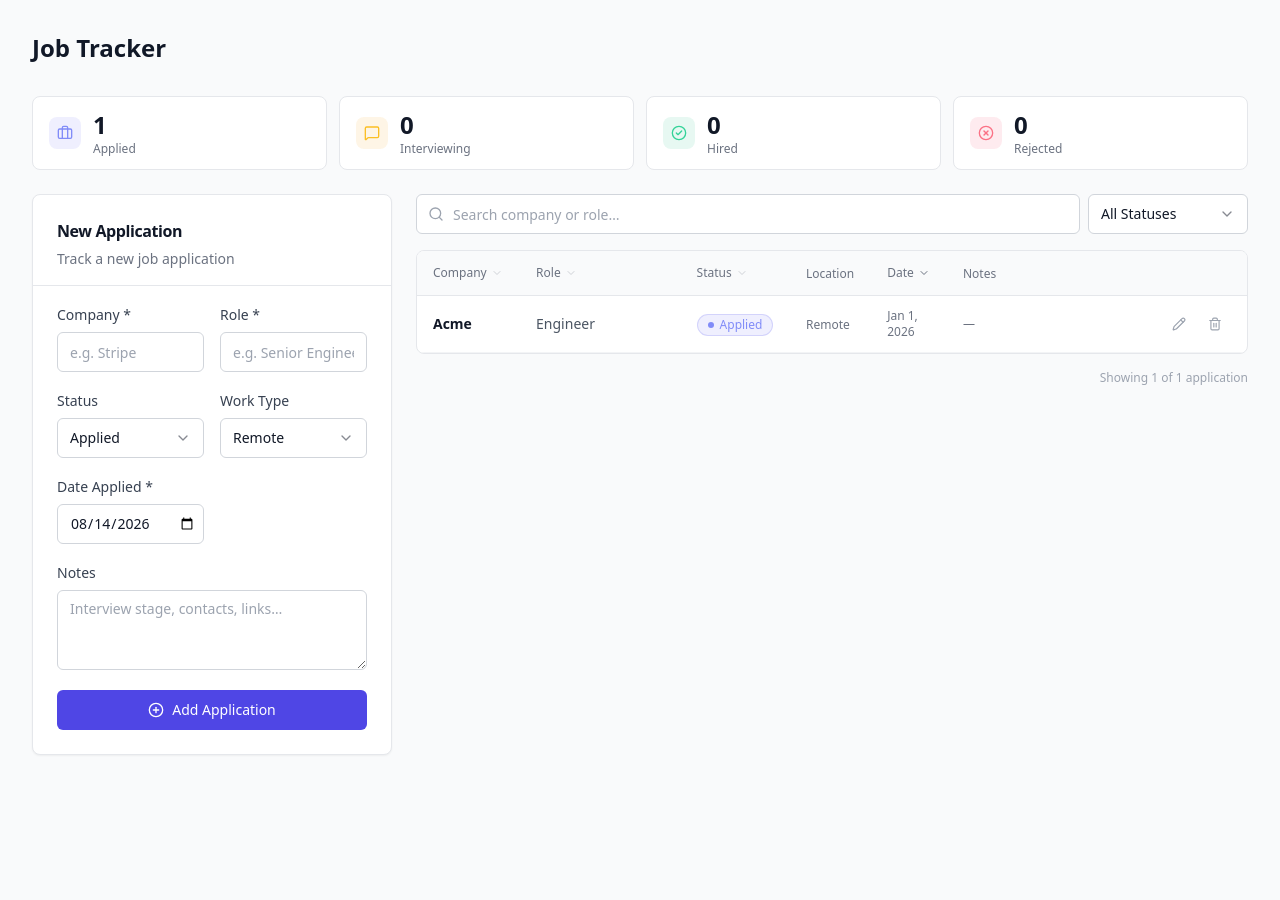
App › cancelling edit mode clears the edit target
The width and height of the screenshot is (1280, 900).
Click the button named "Edit Acme — Engineer": (1179, 324) [1163,308,1195,340]
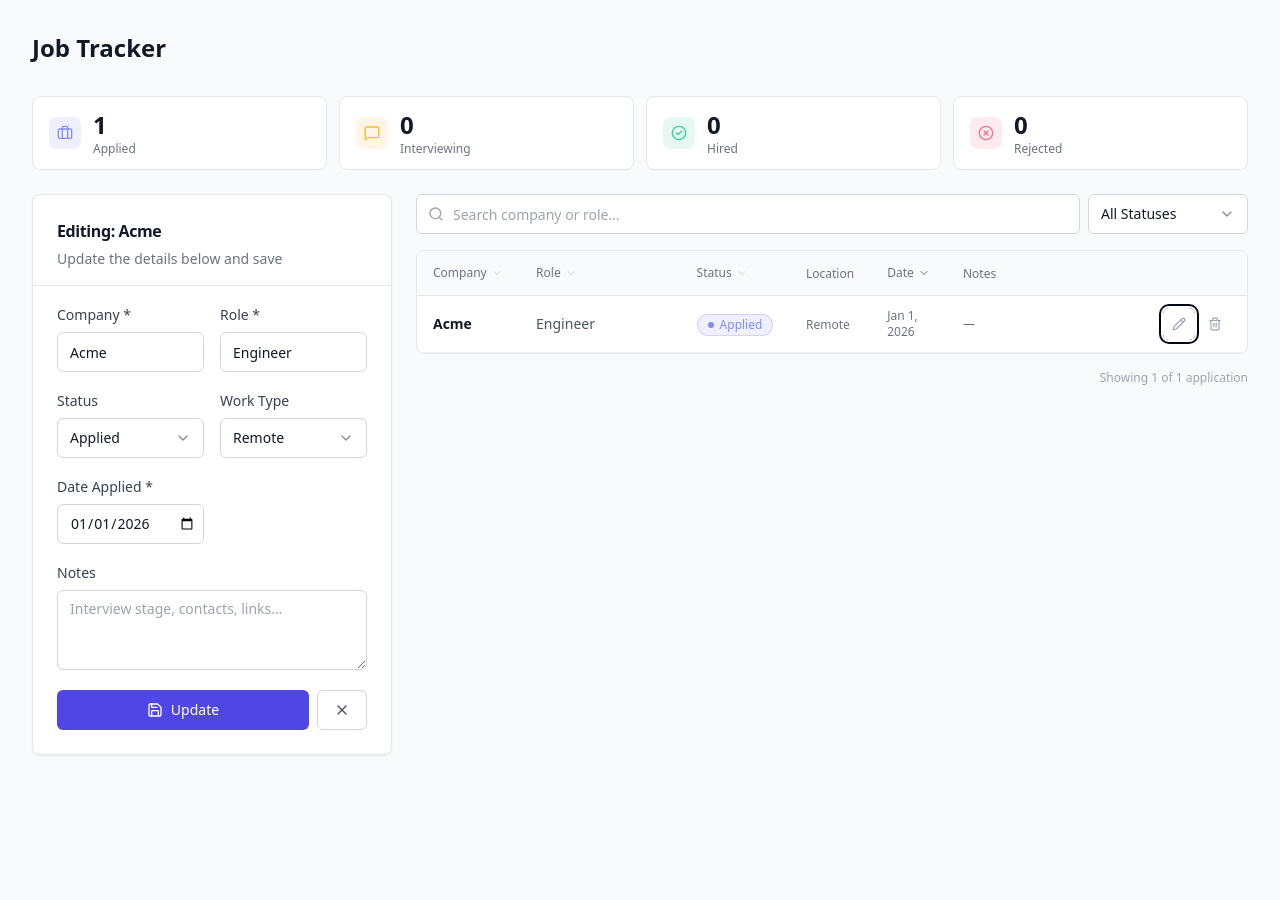
Expected: the heading "Editing: Acme" is shown, [57,220,161,242]
Click the button named "Cancel editing": (342, 710) [317,690,367,730]
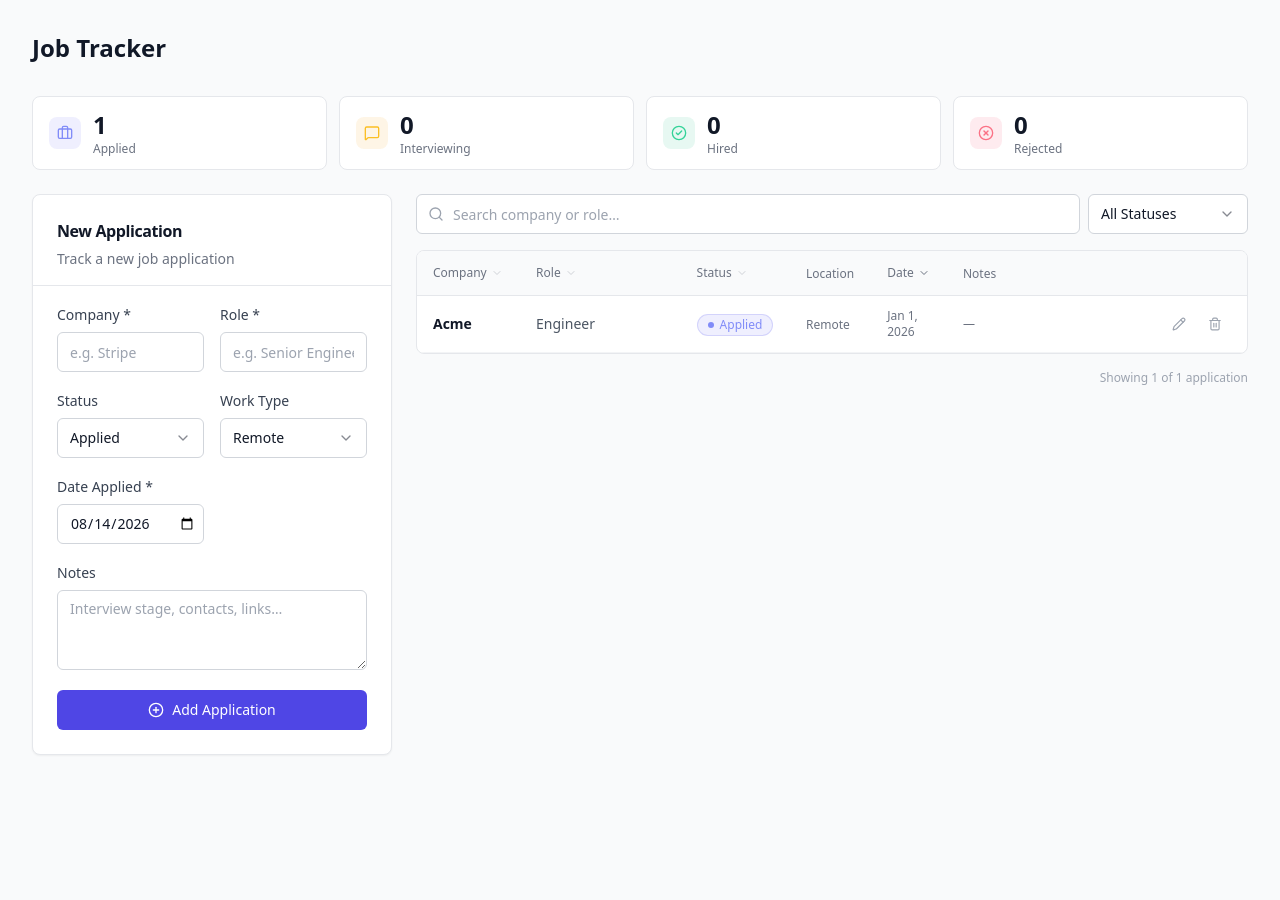
Expected: the heading "New Application" is shown, [57,220,182,242]
